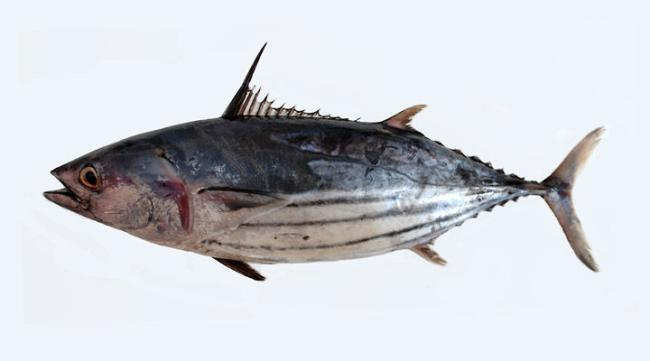fish: (42, 40, 606, 284)
